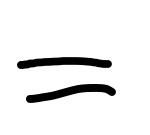eqv: (18, 57, 116, 103)
